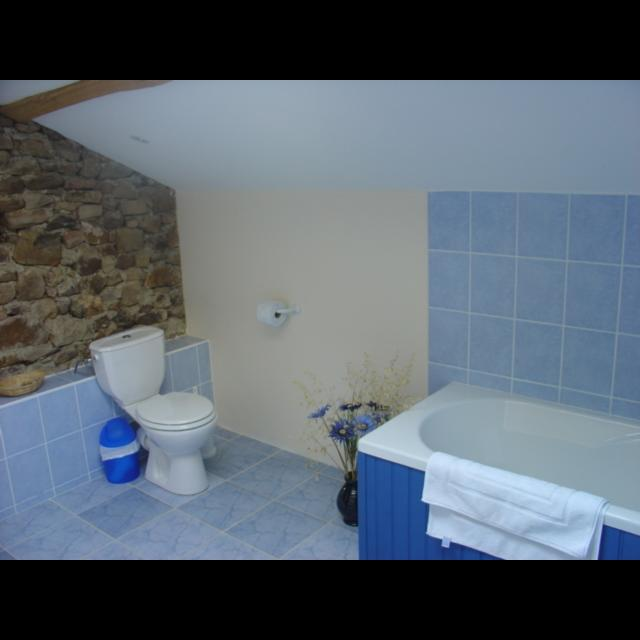Flower: (288, 350, 424, 454), (328, 418, 354, 444)
